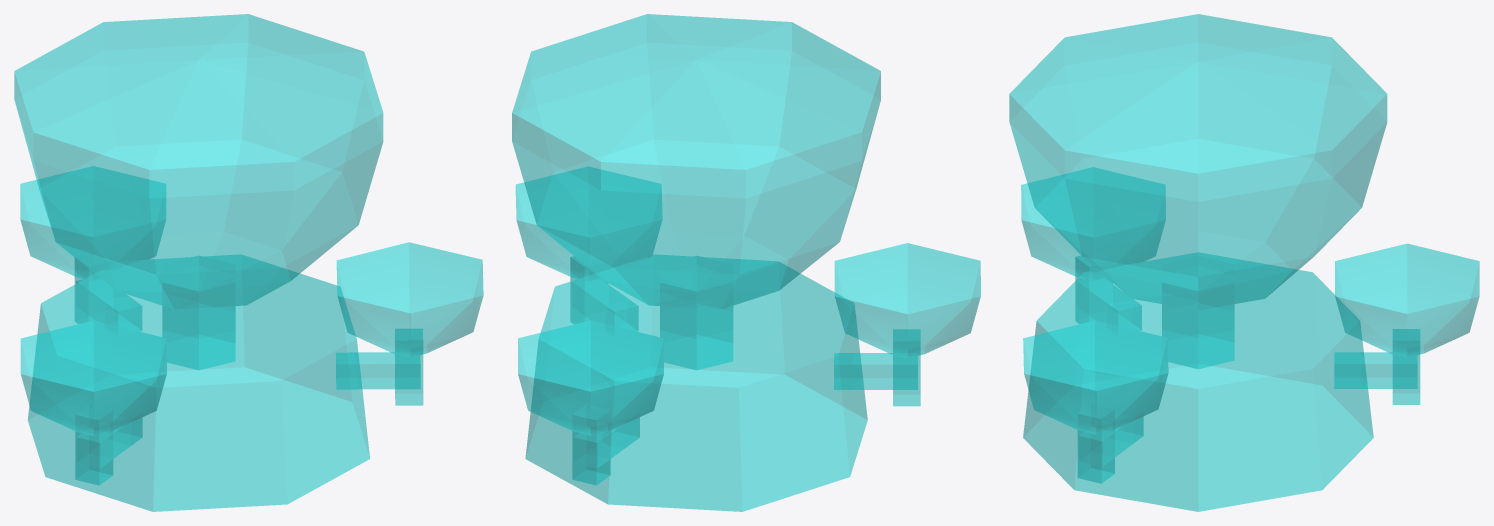
The model's file is SM_Prop_Brazier_01_Collision_01.fbx.
3 renders of one model, left to right at view 1: azimuth 30°, elevation 25°; view 2: azimuth 150°, elevation 25°; view 3: azimuth 270°, elevation 25°, orthographic.
Visible parts, largest first — view 1: SM_Prop_Brazier_01_Collision_01; view 2: SM_Prop_Brazier_01_Collision_01; view 3: SM_Prop_Brazier_01_Collision_01.
Part boxes in pixels (x1=…): SM_Prop_Brazier_01_Collision_01: x1=14, y1=14, x2=483, y2=511; SM_Prop_Brazier_01_Collision_01: x1=512, y1=14, x2=980, y2=511; SM_Prop_Brazier_01_Collision_01: x1=1009, y1=14, x2=1479, y2=511.
Size of the model in its own units: 481 by 376 by 427.
